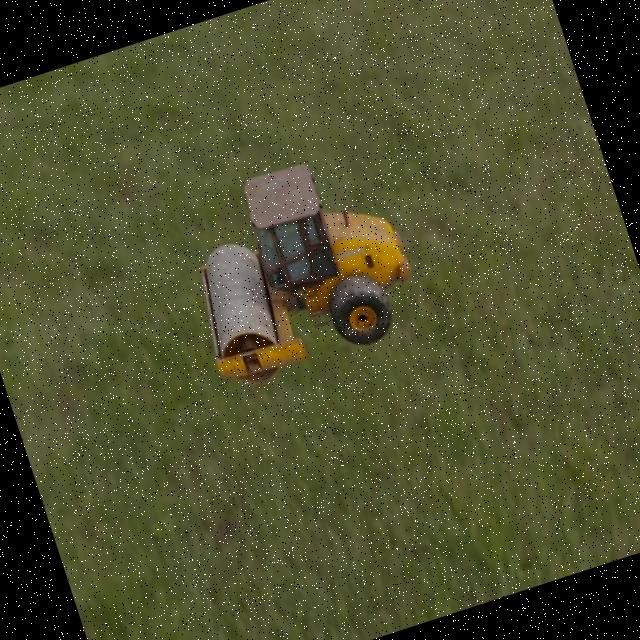Roller: (165, 139, 430, 394)
